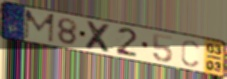2: (115, 27, 140, 59)
5: (152, 32, 174, 64)
8: (55, 17, 80, 46)
C: (180, 38, 201, 68)
M: (23, 9, 57, 45)
X: (84, 19, 114, 55)
